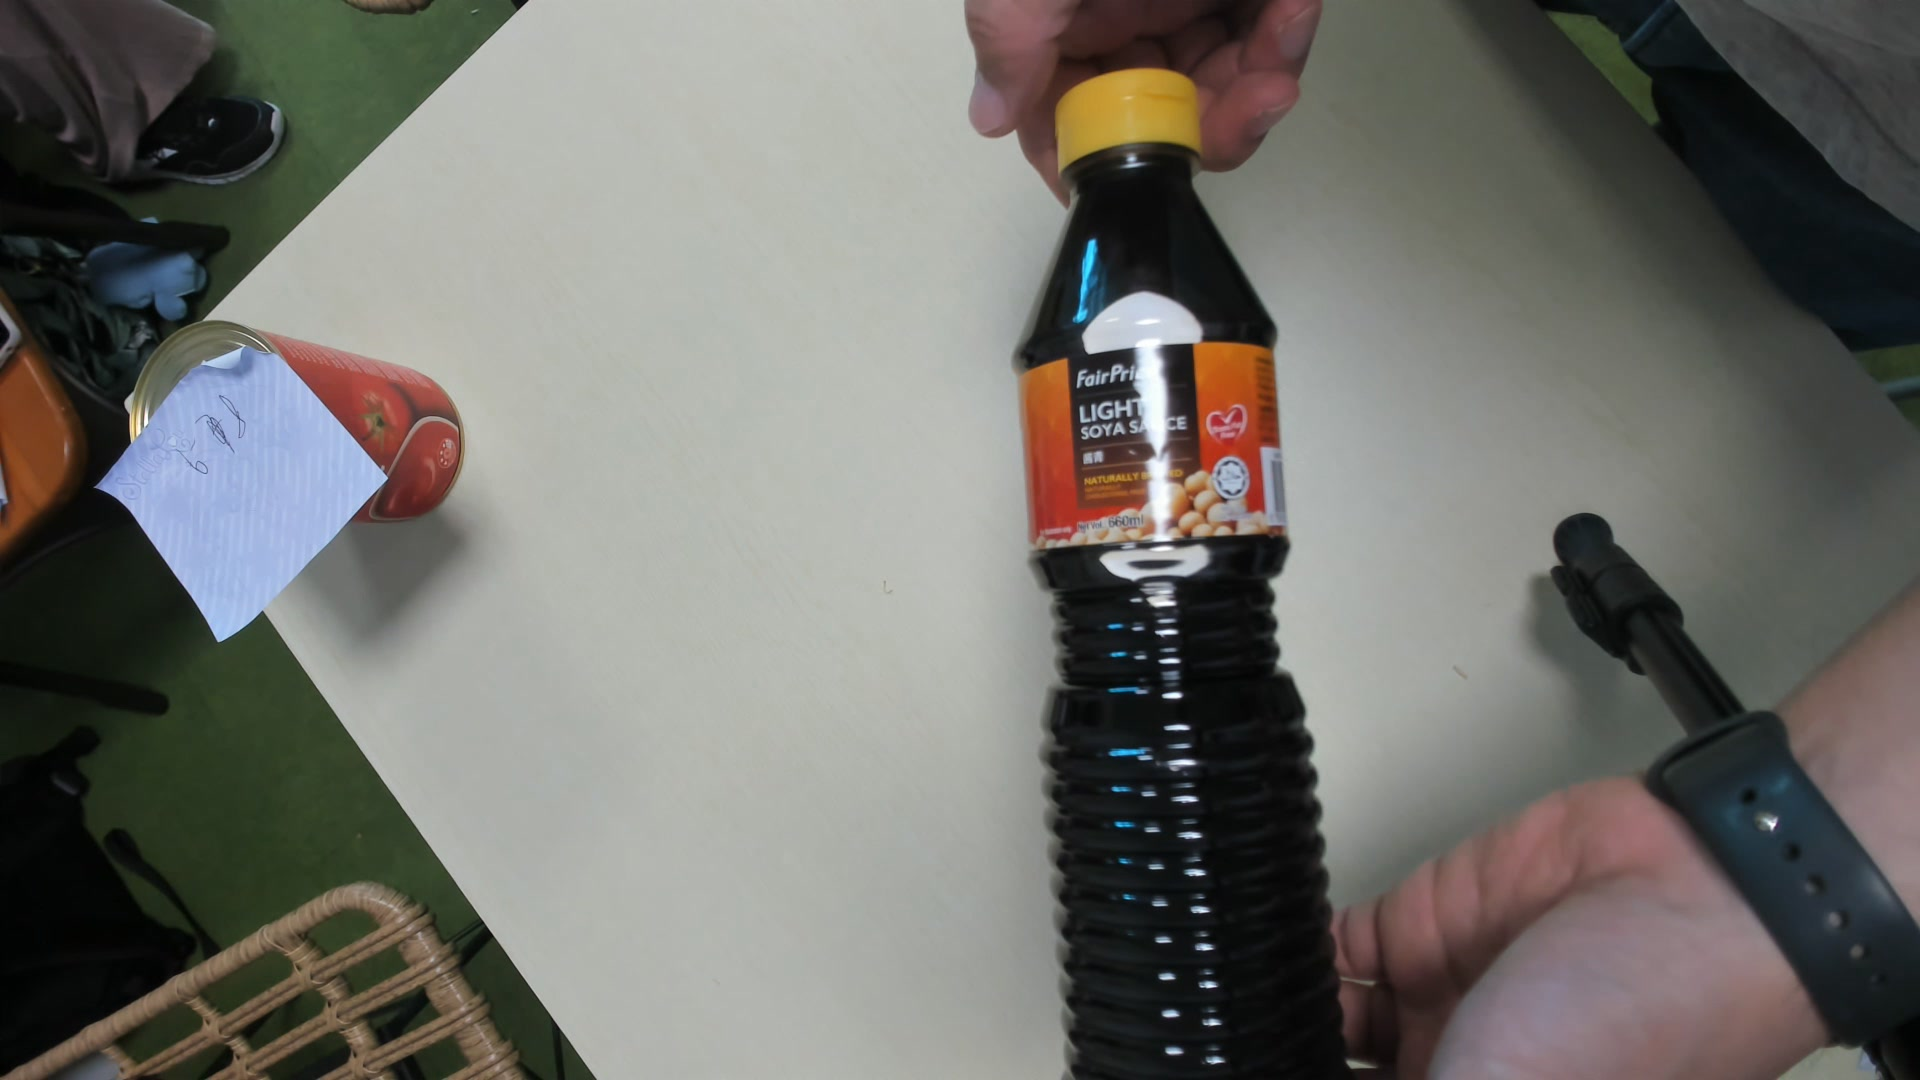OtherSauceDressingSoupbasePaste_600-699g_Halal_NonHealthy: (1013, 71, 1342, 1080)
